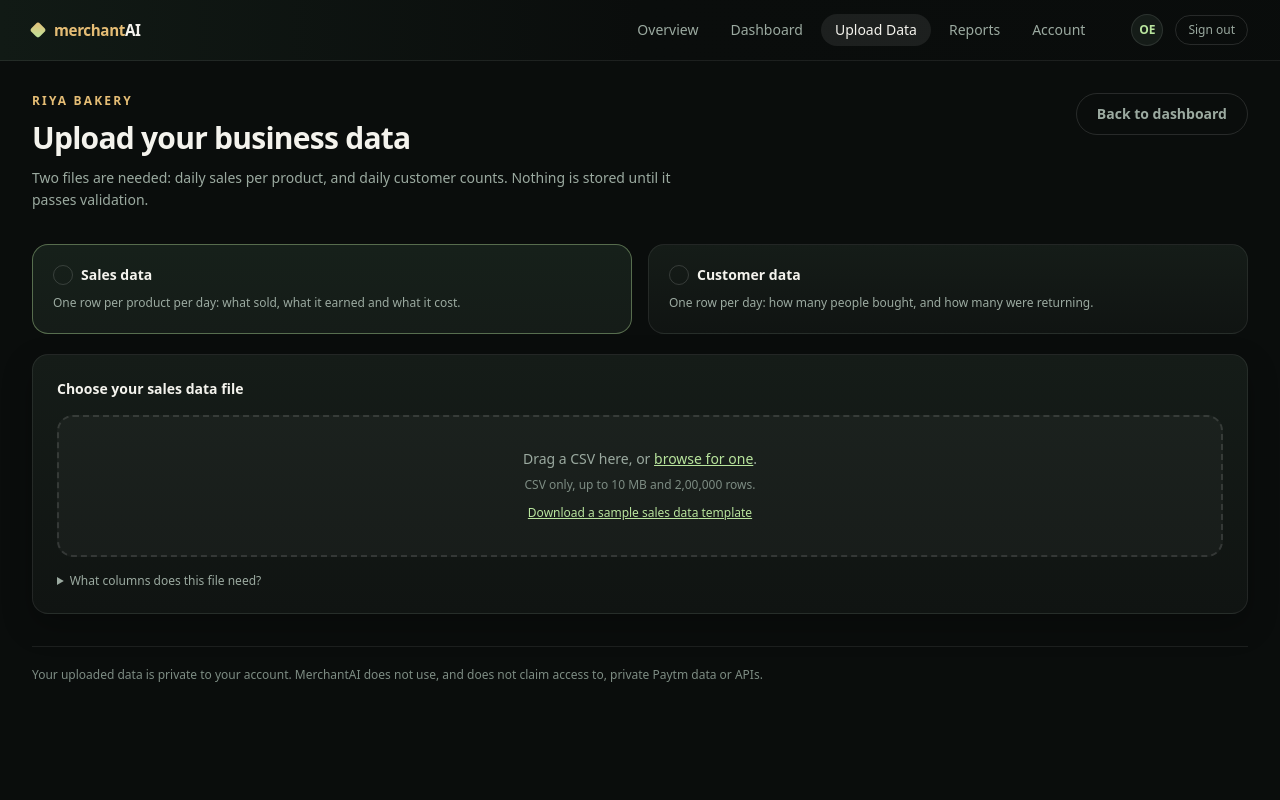
Test case: upload wizard › explains which columns the file needs
The width and height of the screenshot is (1280, 800).
Expected: the heading "Choose your sales data file" is shown, [57,378,243,398]
Click the heading "What columns does this file need?" at x=165, y=580, box [70,572,261,588]
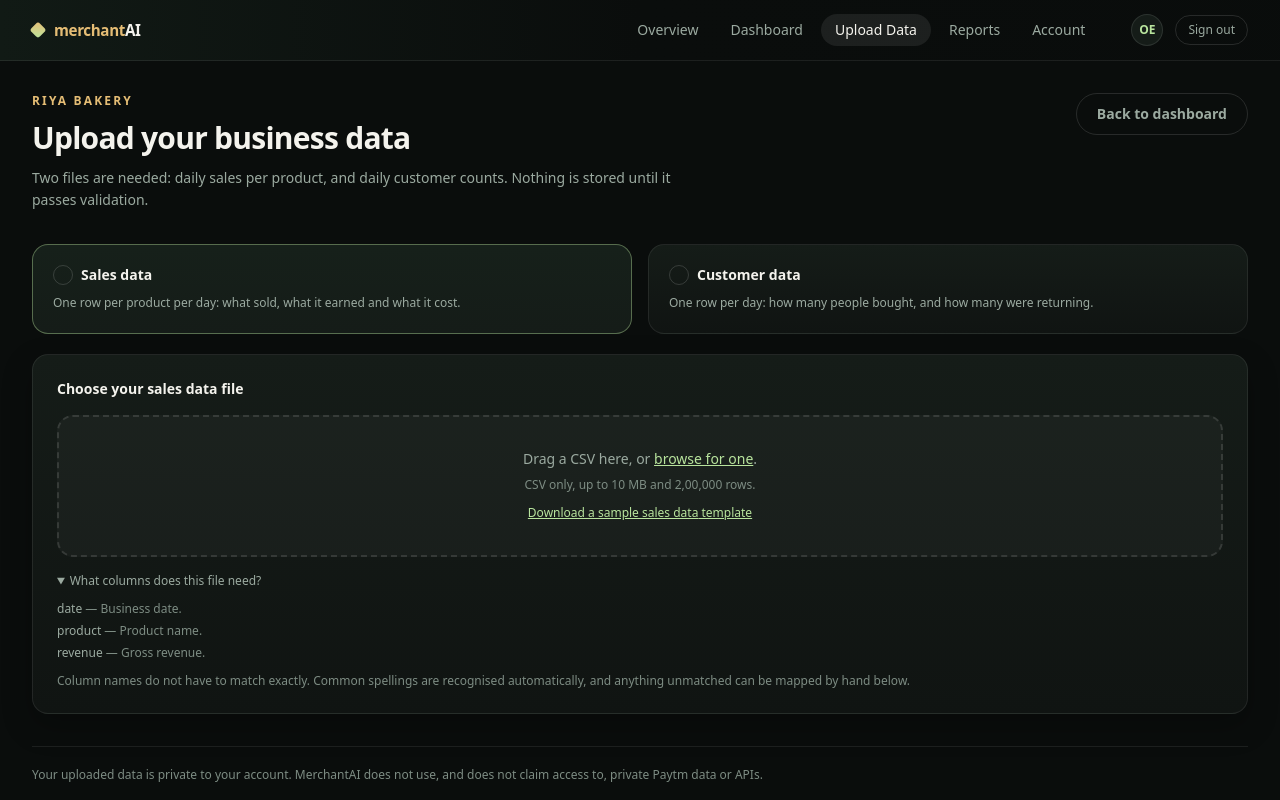
Now the list item "date — Business date." is shown, box [57,600,182,616]
